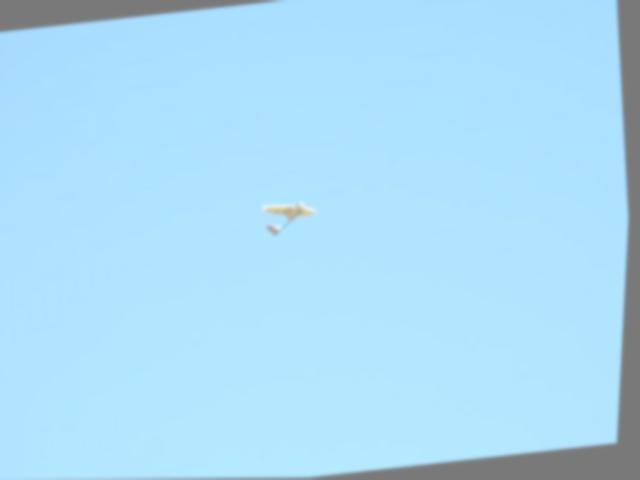iha: (259, 190, 328, 240)
